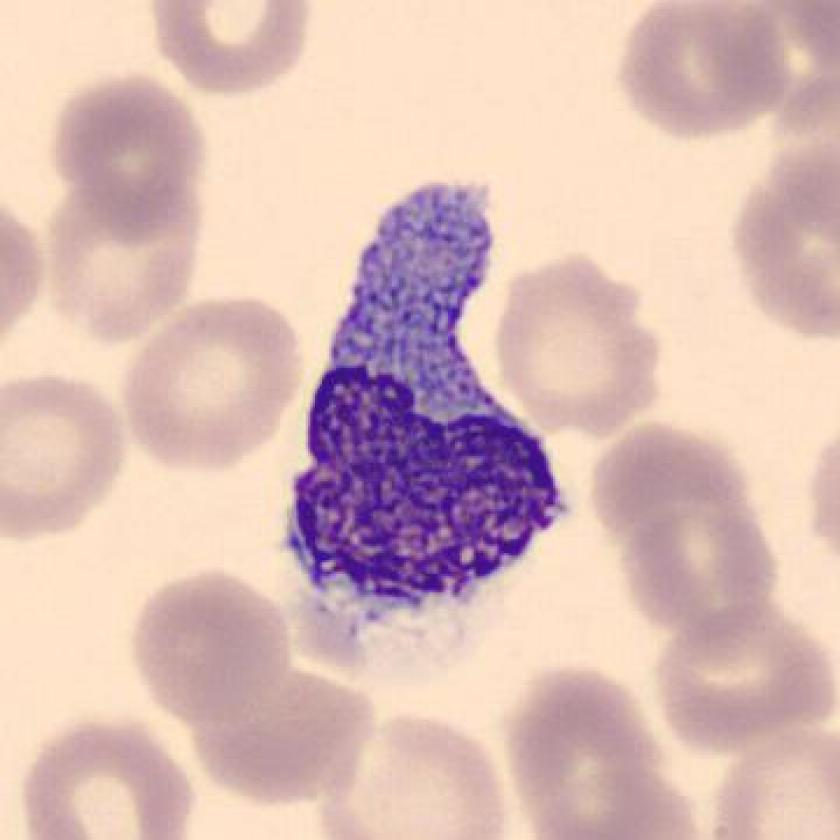monocyte: (265, 156, 594, 698)
